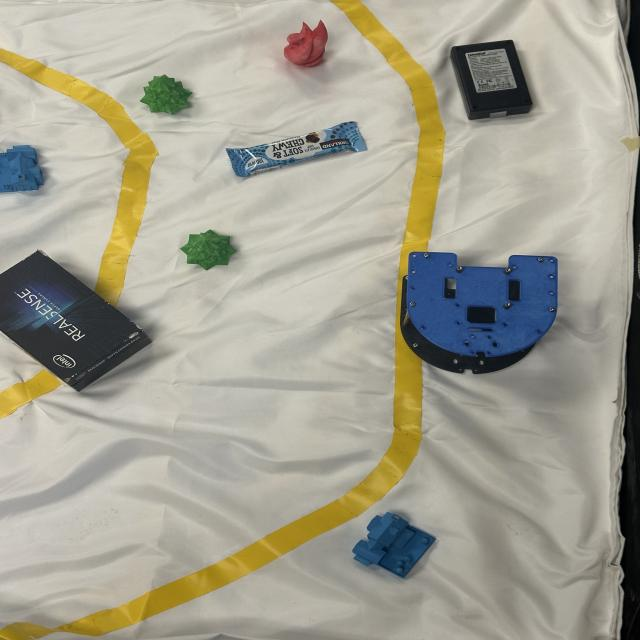fire: (284, 19, 329, 68)
house: (351, 511, 437, 579), (0, 141, 51, 196)
tree: (180, 228, 241, 270), (139, 74, 193, 115)
